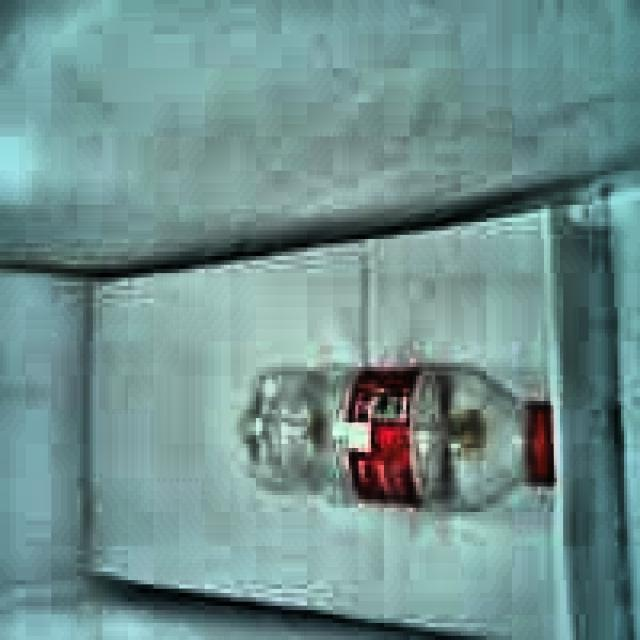plastic bottle: (240, 367, 557, 510)
